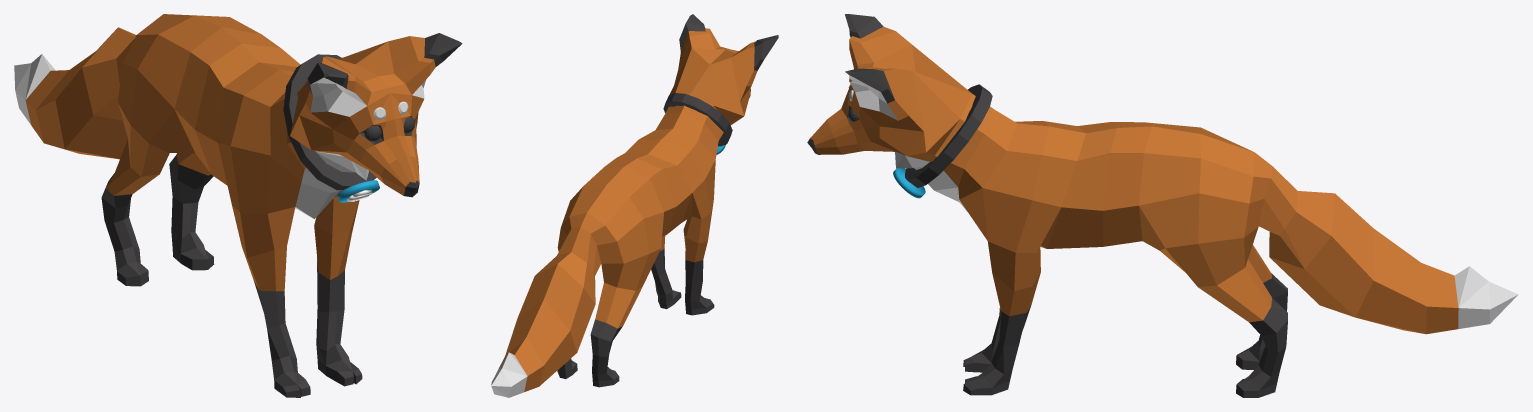
File: 3december_2020_day_17_animal.glb
3 views of the same model, side by side, from view 1: azimuth 30°, elevation 25°; view 2: azimuth 150°, elevation 25°; view 3: azimuth 270°, elevation 25° (orthographic). The views are drawn at different scales.
Parts seen in each view (by area): view 1: Plane_5; view 2: Plane_5; view 3: Plane_5.
Boxes of the visible parts, x1,y1,x2,y2 form: Plane_5: (14,14,462,397); Plane_5: (491,14,778,397); Plane_5: (807,14,1518,397).
Size of the model in its own units: 1.62 by 4.26 by 8.15.
